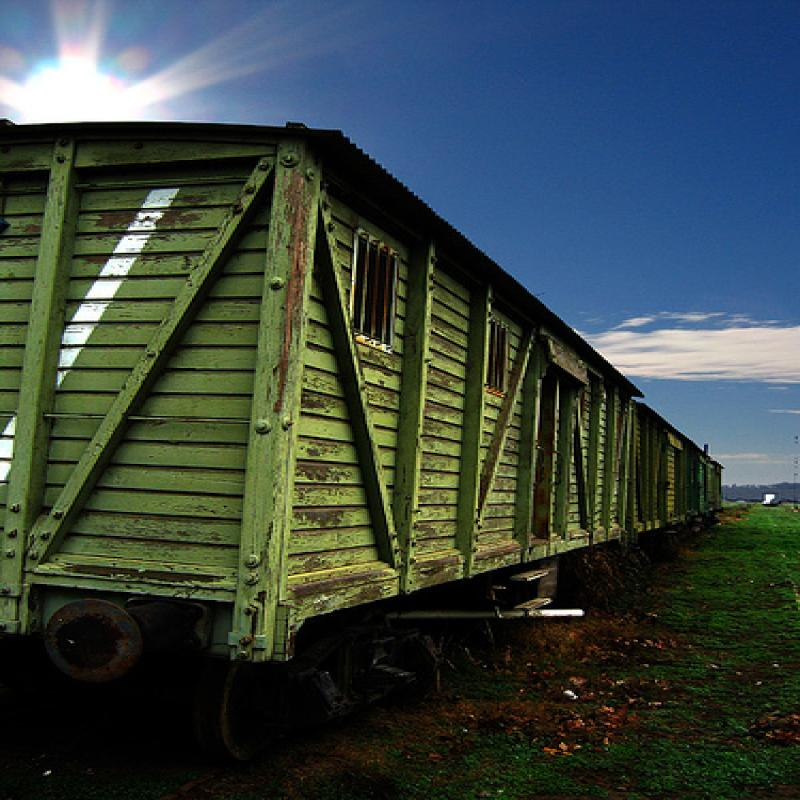train: (1, 117, 726, 767)
